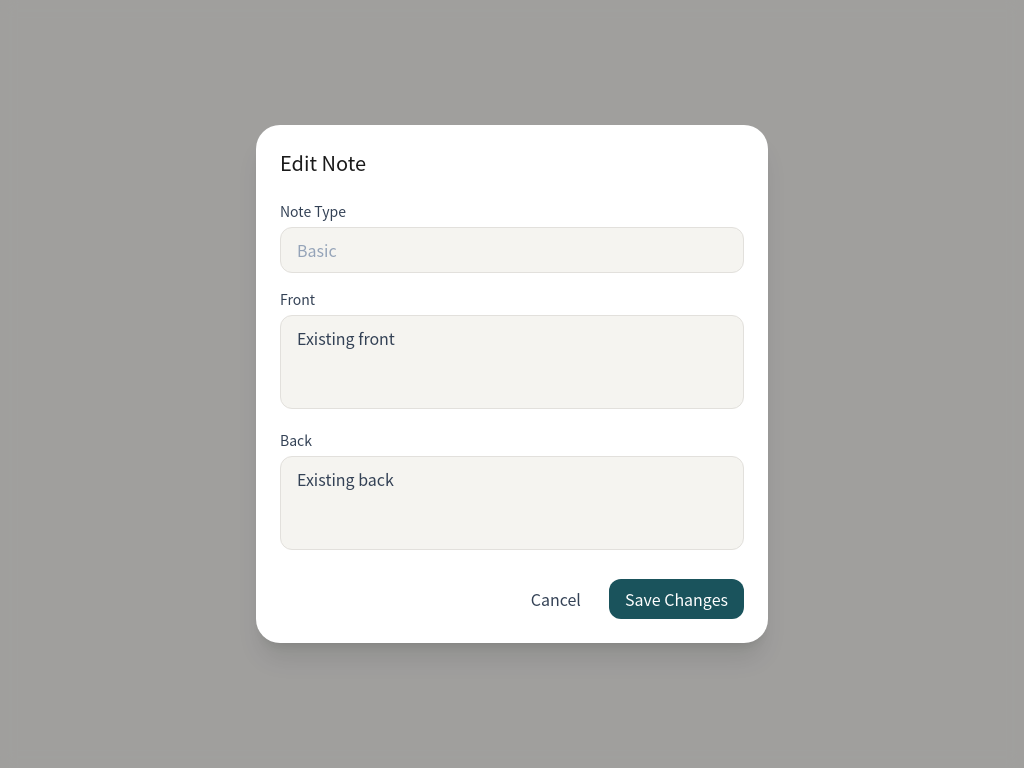
Scenario: EditNoteModal › disables save button when fields are empty
Clear the text box labelled "Front" at (512, 362), box [280,315,744,409]
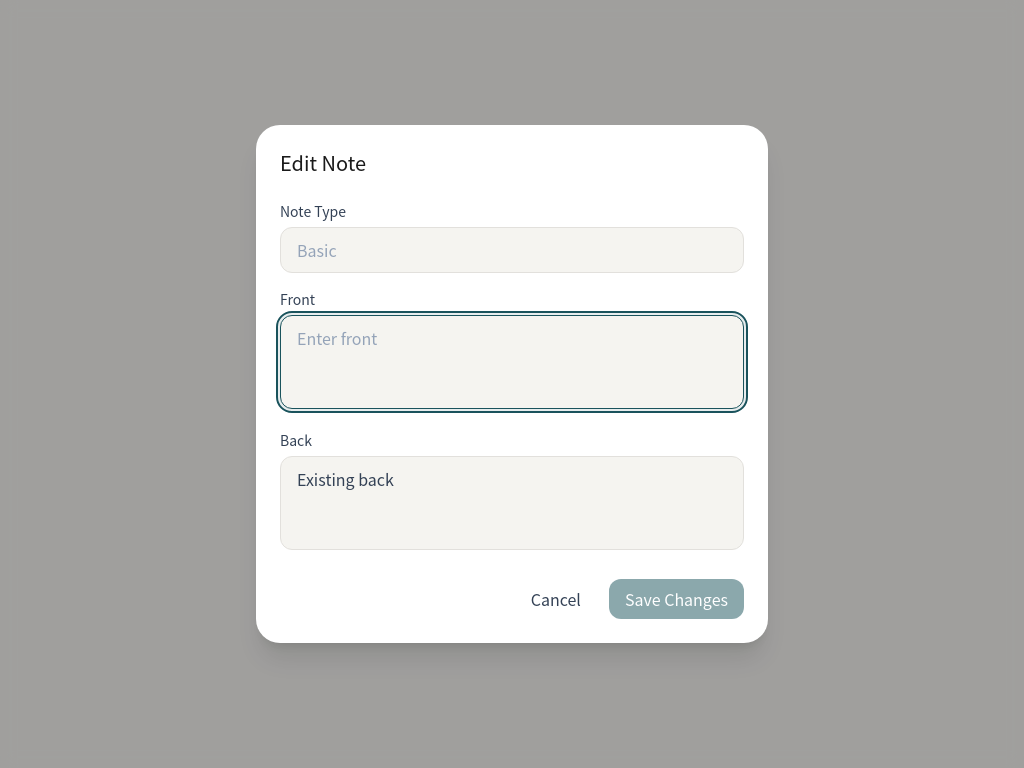
Expected: the button "Save Changes" is disabled, [609,579,744,619]
